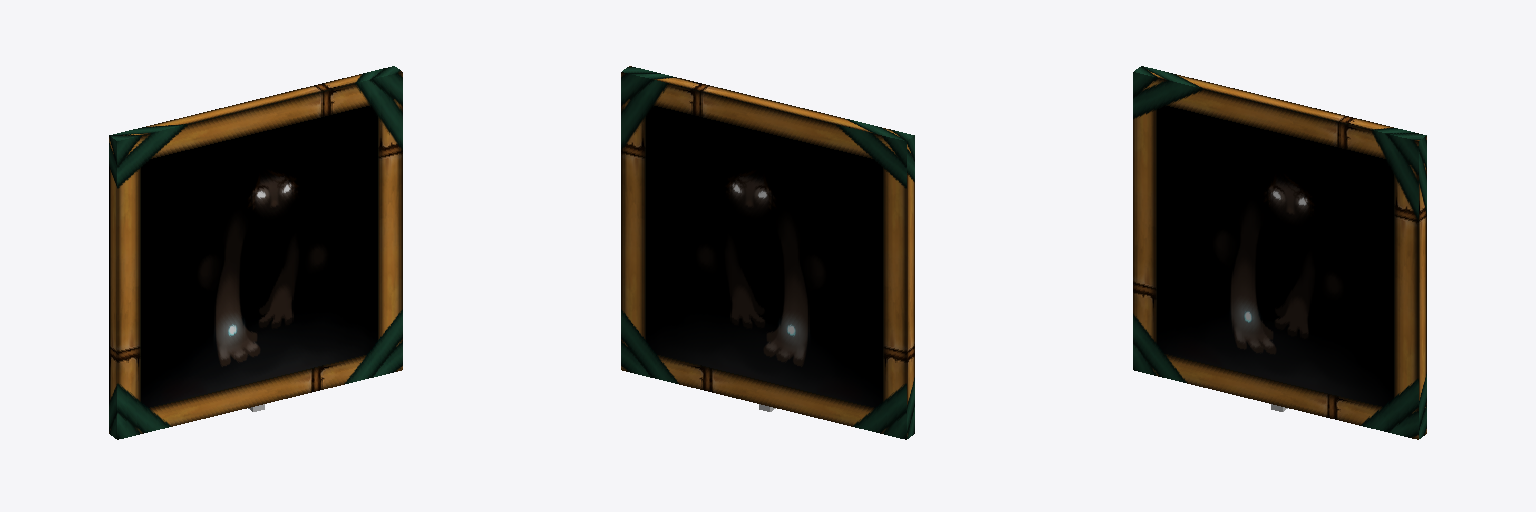
3 renders of one model, left to right at view 1: azimuth 30°, elevation 25°; view 2: azimuth 150°, elevation 25°; view 3: azimuth 330°, elevation 25°, orthographic.
Parts seen in each view (by area): view 1: 0picture_frame_1x1; view 2: 0picture_frame_1x1; view 3: 0picture_frame_1x1.
Boxes of the visible parts, x1=… form: 0picture_frame_1x1: x1=109, y1=66, x2=402, y2=439; 0picture_frame_1x1: x1=621, y1=66, x2=914, y2=439; 0picture_frame_1x1: x1=1133, y1=66, x2=1426, y2=439.
Size of the model in its own units: 2.4 by 2.45 by 0.12.
2 materials, 1 textured.